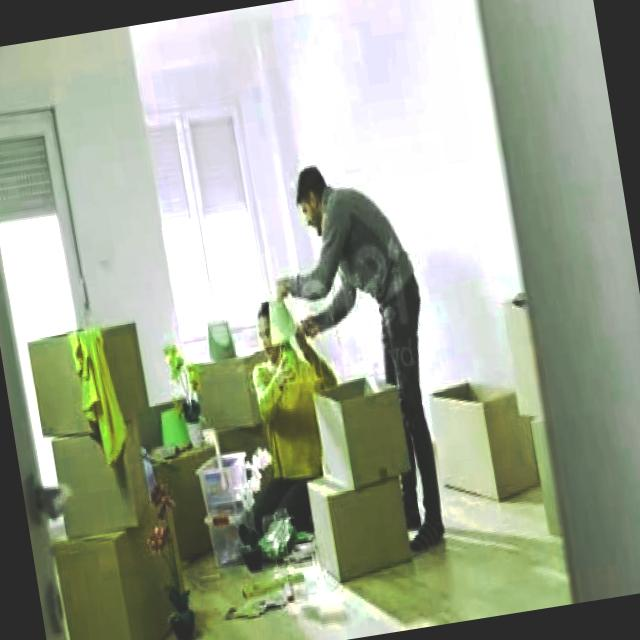Box: (47, 499, 189, 640), (420, 365, 536, 514), (23, 316, 152, 438), (304, 363, 414, 490), (304, 472, 420, 591), (51, 430, 160, 536)
